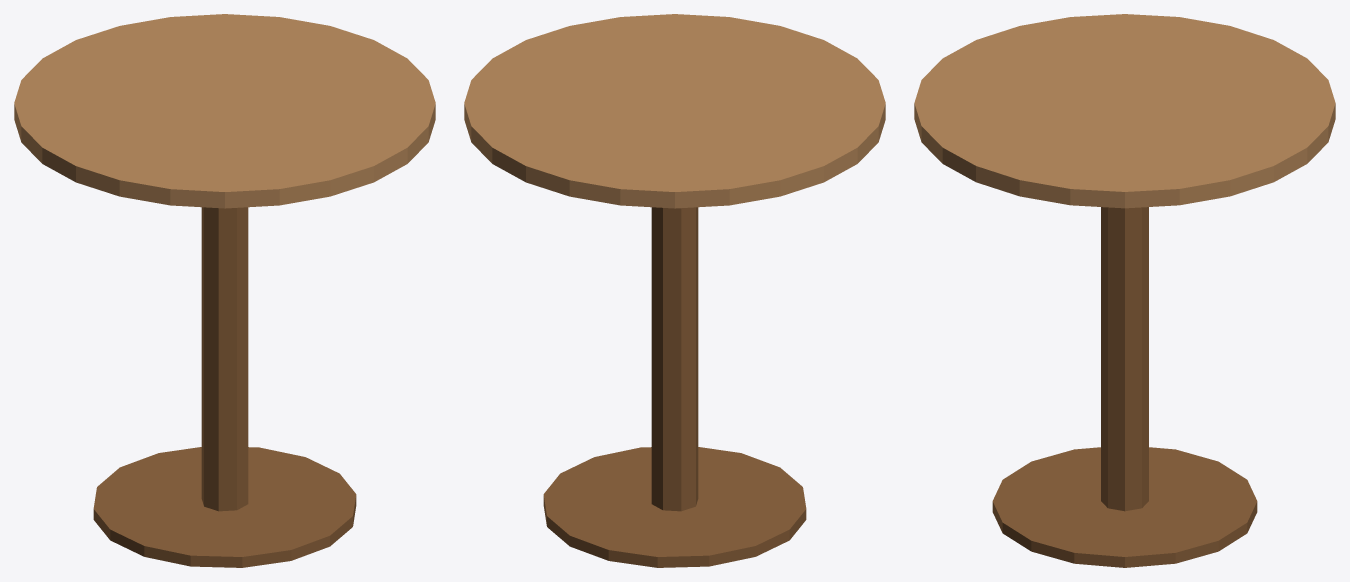
Rendered from mesa_copa_redonda.obj.
3 renders of one model, left to right at view 1: azimuth 30°, elevation 25°; view 2: azimuth 150°, elevation 25°; view 3: azimuth 270°, elevation 25°, orthographic.
Visible parts, largest first — view 1: mesa_copa_redonda; view 2: mesa_copa_redonda; view 3: mesa_copa_redonda.
Boxes of the visible parts, <box> form: mesa_copa_redonda: <box>14,14,435,567</box>; mesa_copa_redonda: <box>464,14,885,567</box>; mesa_copa_redonda: <box>914,14,1335,567</box>.
Size of the model in its own units: 0.7 by 0.75 by 0.7.
